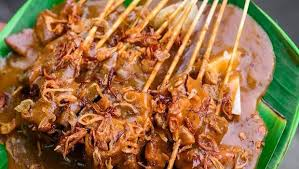sate: (2, 4, 275, 166)
